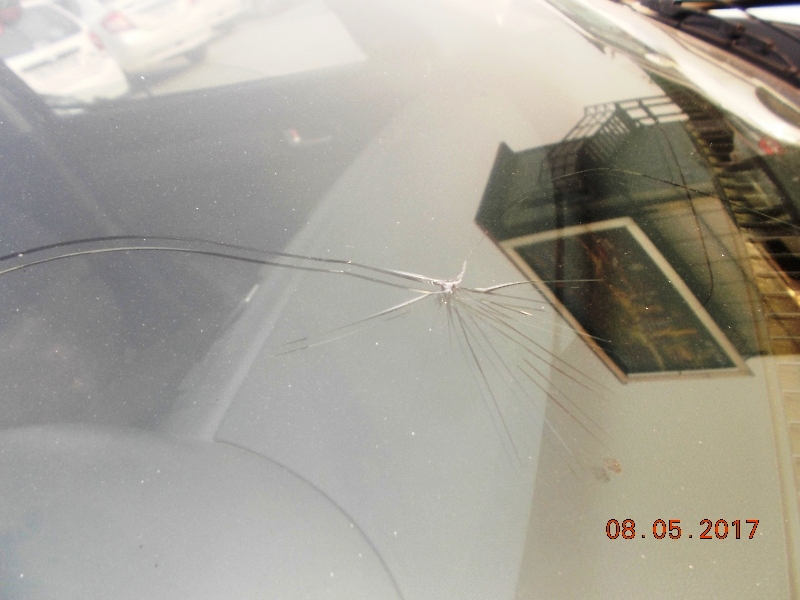Shatter: (376, 219, 537, 378)
